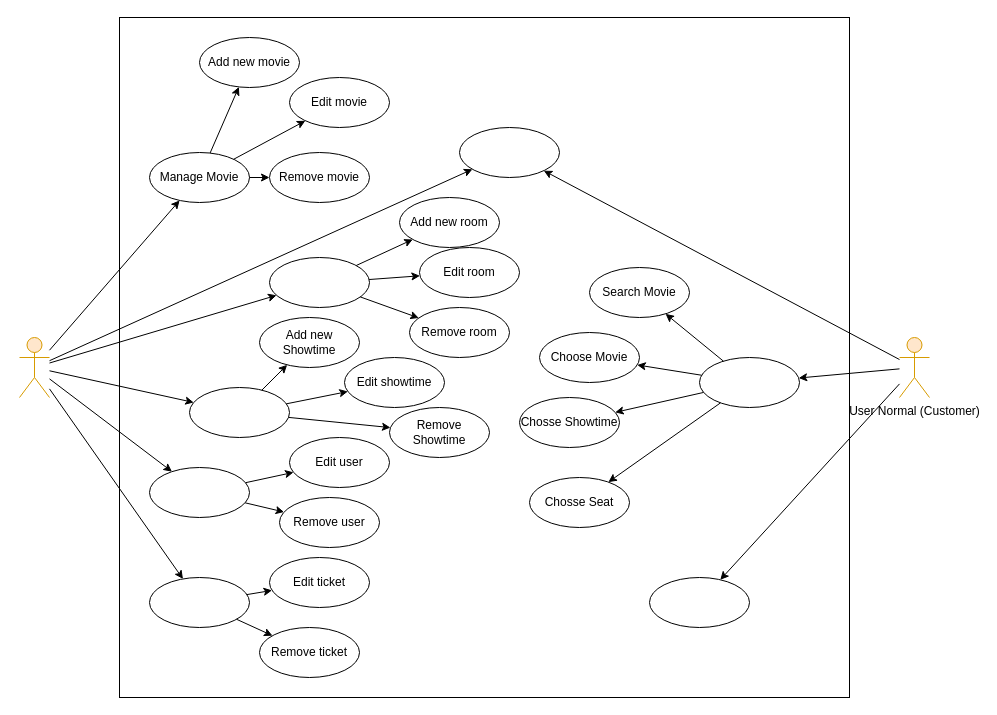
The diagram is 997 pixels wide and 715 high, and some of its shapes have lost their labels. Each missing label, with the centre of its shape:
"Admin" belongs at [34,367].
"Book Ticket" belongs at [749,382].
"Check Info Ticket Booked" belongs at [699,602].
"Login" belongs at [509,152].
"Manage Room" belongs at [319,282].
"Manage Showtime" belongs at [239,412].
"Manage Ticket Booked" belongs at [199,602].
"Manage User" belongs at [199,492].
